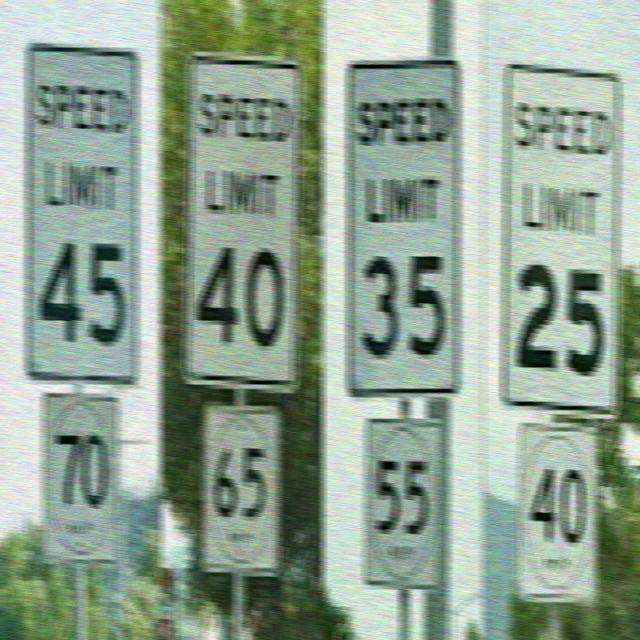speedLimit25: (503, 47, 623, 423)
speedLimit35: (336, 45, 462, 399)
speedLimit40: (180, 45, 302, 395)
speedLimit45: (26, 38, 140, 384)
